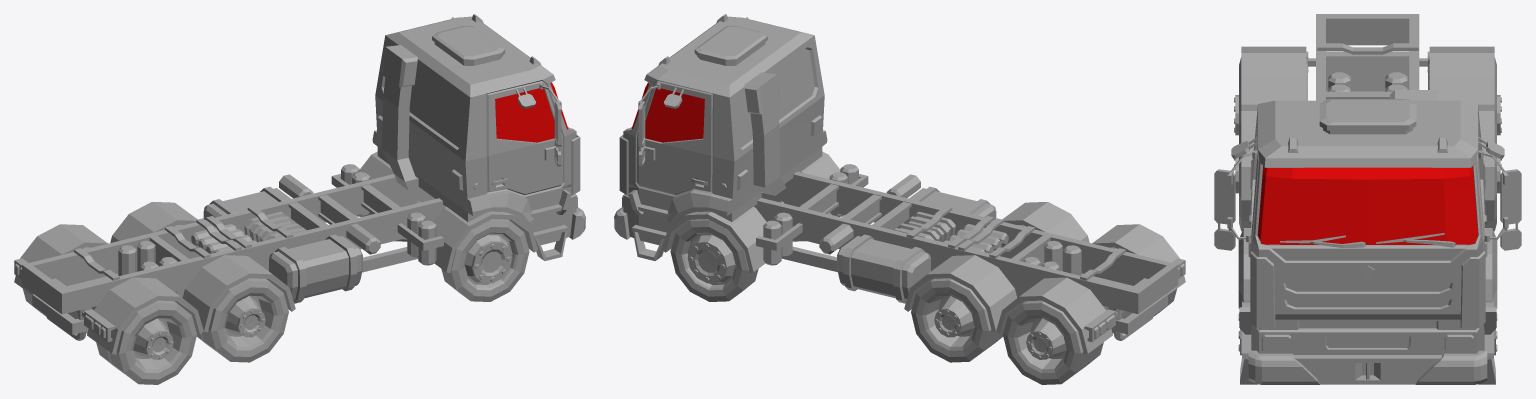
The model's file is SK_Veh_Truck_01.fbx.
3 views of the same model, side by side, from view 1: azimuth 30°, elevation 25°; view 2: azimuth 150°, elevation 25°; view 3: azimuth 270°, elevation 25° (orthographic). The views are drawn at different scales.
Visible parts, largest first — view 1: SK_Veh_Truck_01, SK_Veh_Truck_01_Wheel_rr, SK_Veh_Truck_01_Wheel_mr, SK_Veh_Truck_01_Wheel_fr, SK_Veh_Truck_01_Glass, SK_Veh_Truck_01_Wheel_rl; view 2: SK_Veh_Truck_01, SK_Veh_Truck_01_Wheel_rl, SK_Veh_Truck_01_Wheel_ml, SK_Veh_Truck_01_Wheel_fl, SK_Veh_Truck_01_Glass, SK_Veh_Truck_01_Wheel_rr; view 3: SK_Veh_Truck_01, SK_Veh_Truck_01_Glass, SK_Veh_Truck_01_Wheel_ml, SK_Veh_Truck_01_Wheel_mr, SK_Veh_Truck_01_Wheel_rr, SK_Veh_Truck_01_Wheel_rl.
Part boxes in pixels (x1,y1,x2,y2): SK_Veh_Truck_01: [14, 14, 585, 354]; SK_Veh_Truck_01_Wheel_rr: [96, 300, 196, 384]; SK_Veh_Truck_01_Wheel_mr: [196, 278, 288, 362]; SK_Veh_Truck_01_Wheel_fr: [441, 219, 529, 301]; SK_Veh_Truck_01_Glass: [495, 83, 568, 142]; SK_Veh_Truck_01_Wheel_rl: [23, 247, 118, 316]; SK_Veh_Truck_01: [614, 14, 1185, 354]; SK_Veh_Truck_01_Wheel_rl: [1003, 300, 1103, 384]; SK_Veh_Truck_01_Wheel_ml: [911, 278, 1003, 362]; SK_Veh_Truck_01_Wheel_fl: [670, 219, 758, 301]; SK_Veh_Truck_01_Glass: [631, 83, 704, 142]; SK_Veh_Truck_01_Wheel_rr: [1081, 247, 1176, 316]; SK_Veh_Truck_01: [1214, 14, 1521, 384]; SK_Veh_Truck_01_Glass: [1257, 166, 1478, 244]; SK_Veh_Truck_01_Wheel_ml: [1484, 115, 1501, 231]; SK_Veh_Truck_01_Wheel_mr: [1234, 115, 1251, 231]; SK_Veh_Truck_01_Wheel_rr: [1234, 57, 1307, 135]; SK_Veh_Truck_01_Wheel_rl: [1428, 57, 1501, 135].
Bounding box in the file's own units: 857 × 358 × 351.
